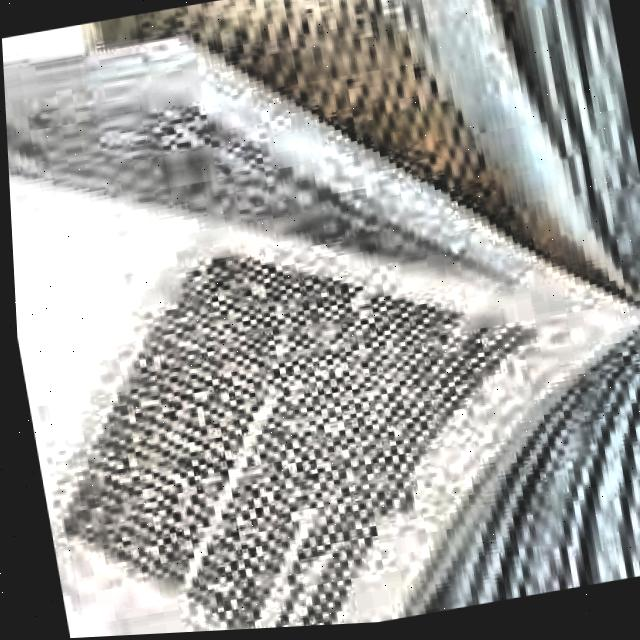paper: (0, 0, 640, 640), (8, 162, 640, 640), (0, 0, 634, 416), (51, 0, 625, 389)
